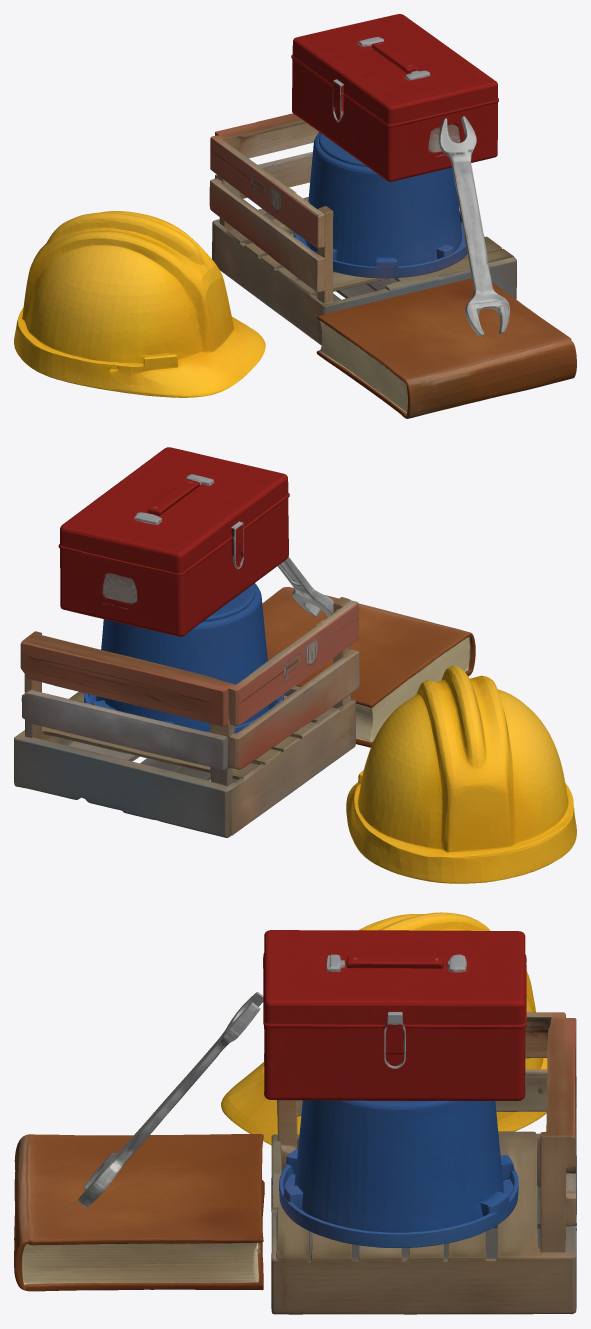
The model's file is phi-scene.glb.
The picture shows the model from 3 angles, top to bottom: view 1: azimuth 30°, elevation 25°; view 2: azimuth 150°, elevation 25°; view 3: azimuth 270°, elevation 25°; orthographic projection. The views are drawn at different scales.
Visible parts, largest first — view 1: object_01, object_03, object_05, object_02, object_04, object_00; view 2: object_05, object_01, object_03, object_02, object_04, object_00; view 3: object_03, object_05, object_02, object_04, object_01, object_00.
Part boxes in pixels (left/top/right/bottom): object_01: left=14, top=211, right=265, bottom=397; object_03: left=291, top=14, right=498, bottom=181; object_05: left=209, top=113, right=516, bottom=345; object_02: left=316, top=278, right=576, bottom=418; object_04: left=293, top=132, right=467, bottom=278; object_00: left=438, top=116, right=509, bottom=336; object_05: left=14, top=597, right=359, bottom=837; object_01: left=346, top=665, right=576, bottom=883; object_03: left=58, top=447, right=289, bottom=636; object_02: left=262, top=587, right=475, bottom=747; object_04: left=83, top=583, right=283, bottom=733; object_00: left=277, top=557, right=333, bottom=617; object_03: left=263, top=930, right=526, bottom=1100; object_05: left=271, top=1012, right=576, bottom=1314; object_02: left=14, top=1134, right=264, bottom=1291; object_04: left=279, top=1100, right=518, bottom=1247; object_01: left=221, top=912, right=547, bottom=1145; object_00: left=77, top=992, right=263, bottom=1207.
Size of the model in its own units: 0.9856 by 0.5051 by 0.8338.
Materials: 6 (6 with a texture image).
